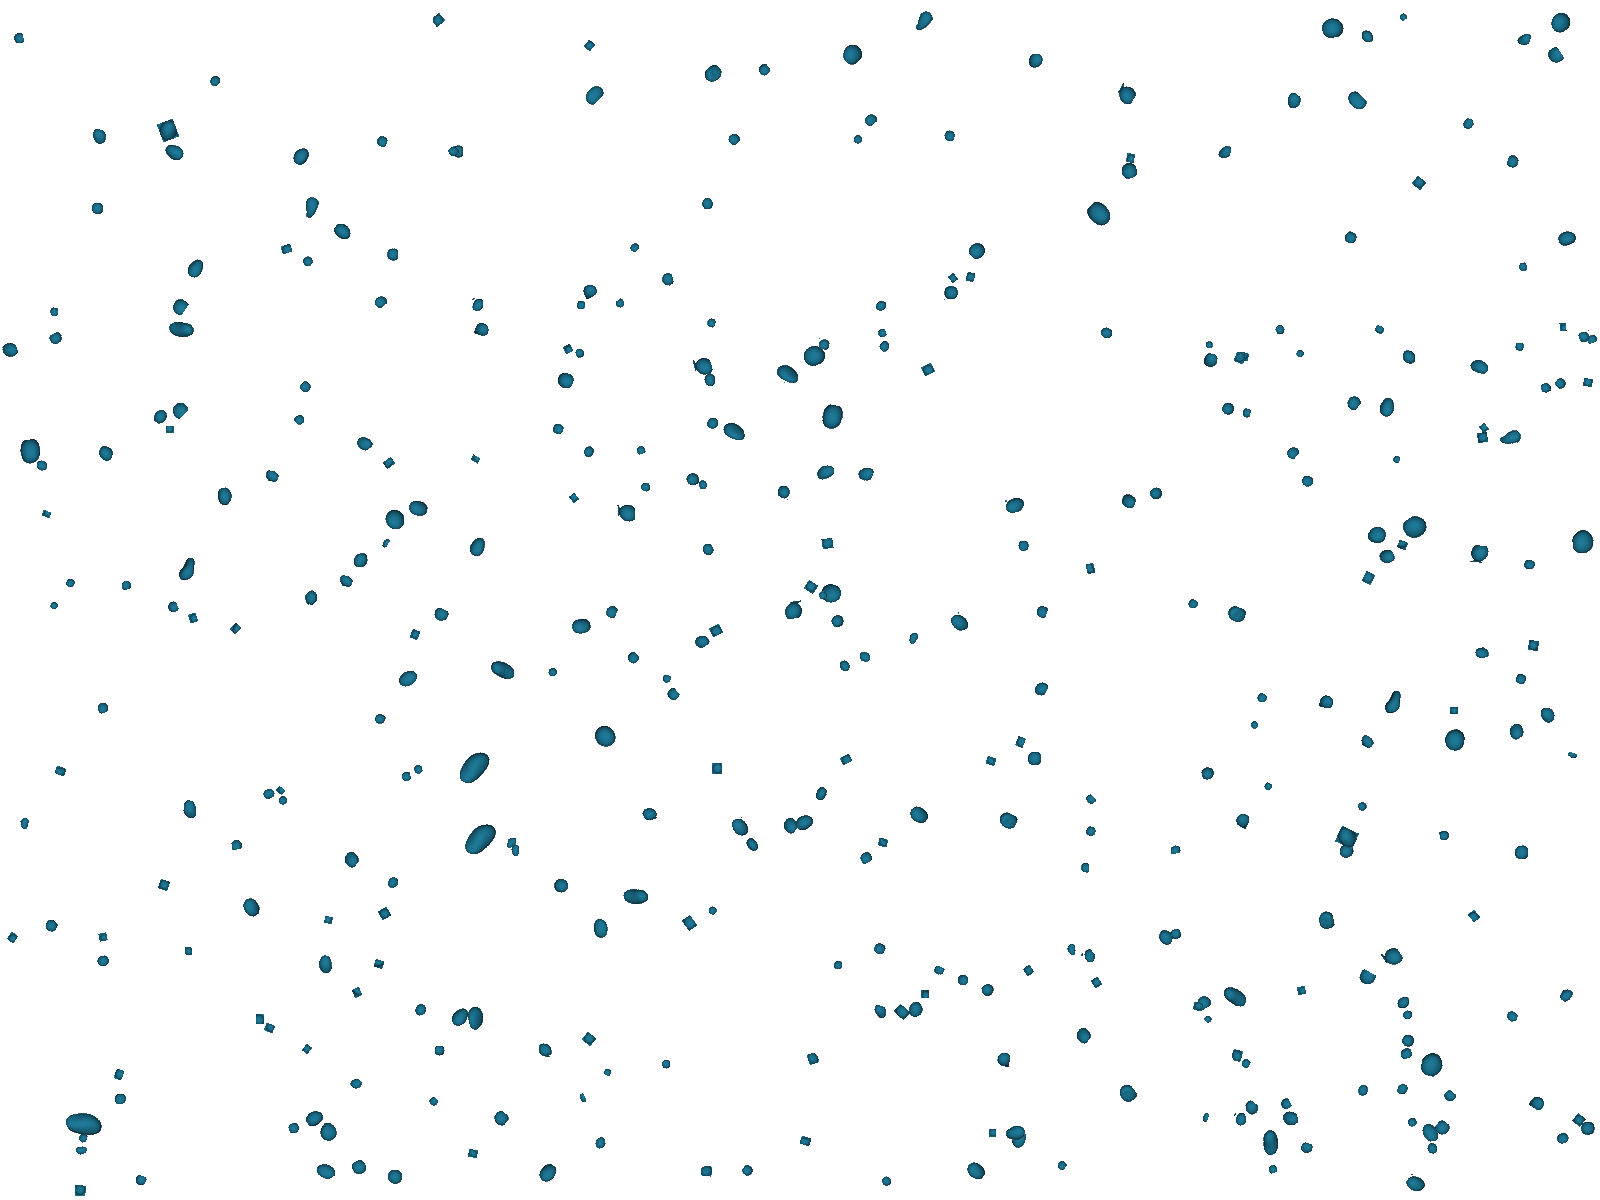drop: (63, 1104, 106, 1145), (462, 818, 499, 858), (457, 747, 493, 787), (1398, 511, 1432, 545), (1083, 198, 1116, 229), (837, 37, 868, 69), (588, 720, 620, 753), (1256, 1124, 1286, 1158), (1545, 5, 1576, 37), (460, 1003, 490, 1034), (621, 884, 654, 911), (800, 342, 830, 369), (168, 316, 199, 343), (816, 580, 844, 609), (1218, 983, 1250, 1008), (181, 255, 209, 282), (464, 533, 491, 561), (580, 79, 607, 107), (1004, 1124, 1031, 1153), (312, 1156, 339, 1184), (161, 139, 188, 166), (1342, 88, 1369, 115), (791, 808, 818, 834), (1373, 395, 1400, 421), (820, 403, 845, 431), (301, 1104, 328, 1129), (331, 218, 357, 245), (1571, 528, 1596, 555), (1420, 1051, 1445, 1078), (587, 916, 612, 943), (1320, 15, 1347, 40), (446, 1005, 472, 1030), (700, 62, 726, 88), (906, 802, 932, 827), (239, 894, 265, 920), (963, 1158, 989, 1184), (1380, 944, 1405, 971), (911, 8, 936, 34), (1334, 824, 1361, 850), (1555, 224, 1580, 250), (1364, 522, 1390, 547), (1114, 1080, 1139, 1105), (1114, 82, 1139, 107), (1403, 1171, 1429, 1196), (947, 610, 973, 635), (1443, 726, 1466, 753), (994, 809, 1020, 833), (535, 1160, 559, 1186), (19, 437, 42, 465), (488, 658, 517, 679), (289, 142, 312, 168), (316, 1121, 341, 1145), (380, 507, 406, 531), (1223, 603, 1249, 626), (166, 294, 190, 318), (166, 397, 190, 421), (1542, 45, 1566, 69), (722, 420, 746, 444), (965, 238, 989, 262), (156, 118, 180, 142), (1466, 355, 1490, 378), (1356, 968, 1378, 991), (776, 363, 799, 386), (1342, 391, 1364, 413), (1240, 1098, 1262, 1121), (353, 431, 375, 454), (692, 355, 714, 378), (215, 485, 237, 509), (1004, 1123, 1028, 1145), (1283, 89, 1304, 113), (729, 816, 751, 839), (301, 195, 321, 221), (1335, 839, 1357, 862), (1315, 908, 1335, 932), (406, 498, 430, 518), (569, 616, 593, 637), (178, 557, 197, 582), (1498, 429, 1523, 447), (554, 371, 576, 392), (1117, 160, 1139, 182), (1193, 991, 1214, 1012), (430, 605, 451, 626), (490, 1108, 511, 1129), (1506, 721, 1527, 742), (1385, 689, 1402, 715), (905, 1000, 926, 1020), (1432, 1118, 1453, 1139), (690, 630, 712, 650), (301, 587, 323, 608), (1073, 1025, 1094, 1046), (780, 816, 801, 836), (349, 1158, 369, 1179), (828, 611, 848, 632), (784, 600, 804, 620), (1377, 547, 1397, 567), (1528, 1093, 1548, 1113), (640, 804, 660, 824), (341, 850, 362, 870), (0, 340, 20, 361), (1031, 678, 1049, 700), (814, 464, 837, 482), (1157, 928, 1175, 948), (96, 444, 115, 464), (700, 371, 721, 389), (855, 464, 876, 483), (1398, 1031, 1419, 1050), (1146, 484, 1167, 503), (1340, 229, 1361, 248), (1514, 29, 1533, 49), (617, 503, 636, 523), (580, 281, 600, 300), (1422, 1121, 1440, 1142), (396, 669, 417, 687), (1119, 492, 1138, 511), (89, 129, 108, 147), (1220, 400, 1238, 418), (1080, 947, 1099, 966), (42, 916, 60, 935), (755, 61, 774, 79), (1214, 142, 1233, 161), (871, 1003, 889, 1022), (1470, 545, 1489, 563), (1233, 811, 1252, 829), (684, 470, 703, 489), (703, 415, 722, 434), (1281, 1109, 1300, 1128), (743, 834, 761, 855), (472, 320, 493, 338), (317, 954, 334, 976), (979, 981, 997, 1000), (372, 292, 391, 310), (1284, 442, 1301, 461), (862, 110, 879, 129), (624, 649, 643, 667), (724, 130, 743, 147), (1299, 471, 1317, 490), (1557, 986, 1575, 1005), (47, 330, 66, 348), (552, 877, 571, 895), (664, 686, 682, 705), (698, 539, 716, 558), (151, 408, 170, 426), (1005, 497, 1026, 513), (1202, 352, 1220, 369), (893, 1003, 911, 1021), (1358, 734, 1376, 751), (775, 483, 792, 500), (580, 442, 597, 460), (445, 142, 462, 160), (876, 338, 893, 355), (412, 1002, 430, 1020), (1506, 153, 1522, 171), (351, 552, 369, 568), (682, 914, 698, 932), (603, 603, 620, 620), (871, 940, 888, 957), (1441, 1088, 1458, 1105), (995, 1050, 1012, 1068), (1318, 693, 1335, 710), (857, 850, 874, 866), (260, 785, 277, 802), (183, 800, 197, 821), (581, 1031, 597, 1047), (1411, 175, 1427, 192), (803, 579, 819, 595), (1026, 750, 1042, 766), (297, 378, 314, 395), (164, 599, 180, 615), (659, 271, 675, 287), (740, 1162, 756, 1179), (1513, 671, 1529, 687), (1552, 376, 1569, 392), (944, 285, 960, 301), (1028, 53, 1044, 69), (1199, 765, 1216, 782), (372, 711, 388, 727), (275, 793, 291, 809), (94, 954, 111, 971), (1097, 325, 1114, 342), (508, 842, 524, 858), (73, 1142, 89, 1158), (1571, 1112, 1587, 1128), (814, 785, 829, 803), (1579, 1121, 1596, 1136), (708, 623, 724, 638), (920, 362, 936, 377), (1513, 845, 1529, 860), (1540, 708, 1555, 725), (1233, 1111, 1249, 1127), (292, 412, 307, 429), (551, 421, 566, 437), (1277, 1095, 1293, 1112), (338, 574, 354, 589), (1474, 645, 1490, 661), (1398, 1045, 1414, 1061), (1034, 604, 1049, 620), (348, 1076, 364, 1092), (1402, 349, 1417, 366), (1393, 1082, 1410, 1097), (16, 816, 33, 831), (1361, 570, 1376, 586), (695, 476, 711, 493), (430, 13, 446, 28), (1396, 995, 1411, 1010), (387, 1170, 402, 1185), (89, 200, 105, 216), (1254, 691, 1269, 706), (132, 1174, 147, 1189), (265, 469, 280, 484), (1299, 1141, 1314, 1156), (1083, 792, 1099, 807), (207, 73, 222, 88), (612, 297, 627, 313), (1425, 1141, 1440, 1156), (94, 700, 110, 715), (374, 134, 389, 149), (1577, 329, 1592, 344), (850, 132, 866, 147), (63, 576, 78, 591), (879, 1174, 894, 1189), (699, 195, 714, 211), (538, 1042, 553, 1058), (386, 875, 401, 890), (1065, 942, 1080, 957), (1083, 824, 1099, 839), (377, 906, 392, 921), (1555, 1131, 1571, 1145), (1361, 29, 1374, 44), (1186, 597, 1199, 613), (113, 1092, 129, 1105), (450, 144, 464, 159), (386, 247, 399, 262), (1169, 926, 1183, 942), (546, 666, 561, 679), (1356, 799, 1369, 814), (1540, 379, 1553, 395), (1522, 558, 1537, 572), (1400, 1008, 1415, 1022), (637, 480, 653, 494), (1054, 1158, 1068, 1174), (300, 255, 315, 268), (1466, 909, 1482, 923), (806, 1051, 820, 1066), (1230, 1047, 1243, 1063), (1233, 350, 1247, 366), (287, 1121, 301, 1134), (11, 32, 25, 45), (874, 299, 888, 313), (1405, 1116, 1419, 1129), (942, 129, 956, 142), (574, 299, 588, 313), (382, 456, 396, 470), (1506, 1010, 1519, 1024), (1461, 117, 1475, 131), (35, 459, 49, 473), (907, 632, 921, 645), (411, 763, 425, 776), (706, 903, 719, 916), (627, 241, 641, 255), (1238, 1058, 1252, 1071), (1090, 976, 1104, 989), (839, 753, 853, 766), (157, 879, 171, 892), (471, 297, 484, 313), (1516, 258, 1528, 274), (229, 621, 242, 635), (1437, 829, 1451, 842), (1017, 539, 1031, 552), (433, 1044, 446, 1058), (932, 964, 946, 977), (1585, 333, 1599, 345), (831, 959, 845, 972), (1274, 323, 1286, 337), (799, 1134, 813, 1147), (1356, 1084, 1369, 1097), (816, 587, 829, 601), (1294, 347, 1306, 361), (48, 599, 60, 613), (1022, 964, 1036, 977), (1014, 735, 1027, 749), (711, 763, 723, 775), (6, 932, 19, 944), (373, 958, 386, 971), (562, 343, 574, 355), (399, 770, 412, 783), (1373, 324, 1386, 337), (818, 338, 830, 350), (635, 444, 648, 456), (876, 326, 888, 339), (427, 1095, 440, 1108), (77, 1132, 89, 1145), (858, 650, 871, 663), (593, 1137, 606, 1150), (821, 537, 834, 550), (660, 673, 673, 686), (1249, 718, 1261, 731), (583, 39, 596, 52), (700, 1165, 713, 1177), (1527, 639, 1540, 652), (351, 986, 363, 1000), (506, 836, 518, 850), (706, 316, 717, 330), (409, 628, 421, 642), (113, 1068, 125, 1082), (280, 243, 294, 255), (1478, 422, 1490, 434), (568, 492, 580, 504), (263, 1022, 276, 1034), (186, 613, 199, 624), (1192, 1001, 1204, 1012), (1396, 539, 1409, 551), (877, 837, 889, 848), (301, 1042, 312, 1055), (231, 838, 243, 850), (1202, 1013, 1214, 1025), (574, 347, 586, 359), (54, 765, 67, 776), (1085, 562, 1096, 575), (965, 271, 976, 284), (578, 1092, 588, 1105), (1125, 153, 1136, 164), (1238, 350, 1250, 362), (985, 755, 997, 766), (947, 272, 959, 284), (121, 579, 132, 590), (957, 974, 969, 986), (1391, 454, 1402, 465), (1397, 11, 1409, 23), (839, 661, 850, 672), (1267, 1163, 1279, 1175), (1262, 780, 1274, 792), (1582, 377, 1594, 388), (1169, 845, 1182, 855), (1080, 861, 1090, 874), (661, 1058, 671, 1070), (380, 537, 391, 550), (467, 1148, 479, 1158), (275, 785, 286, 795), (470, 454, 481, 464), (602, 1066, 614, 1076), (1296, 984, 1306, 996), (254, 1013, 265, 1025), (1477, 432, 1488, 442), (76, 1185, 86, 1196), (1201, 1112, 1209, 1124), (42, 509, 52, 519), (920, 989, 930, 1000), (98, 932, 108, 942), (1514, 342, 1524, 352), (49, 308, 59, 318), (1567, 751, 1579, 760), (988, 1128, 997, 1138), (165, 425, 175, 434), (1558, 321, 1567, 332), (1449, 706, 1459, 715), (184, 945, 193, 955), (1242, 408, 1251, 418), (1204, 340, 1214, 349), (324, 916, 333, 924)
